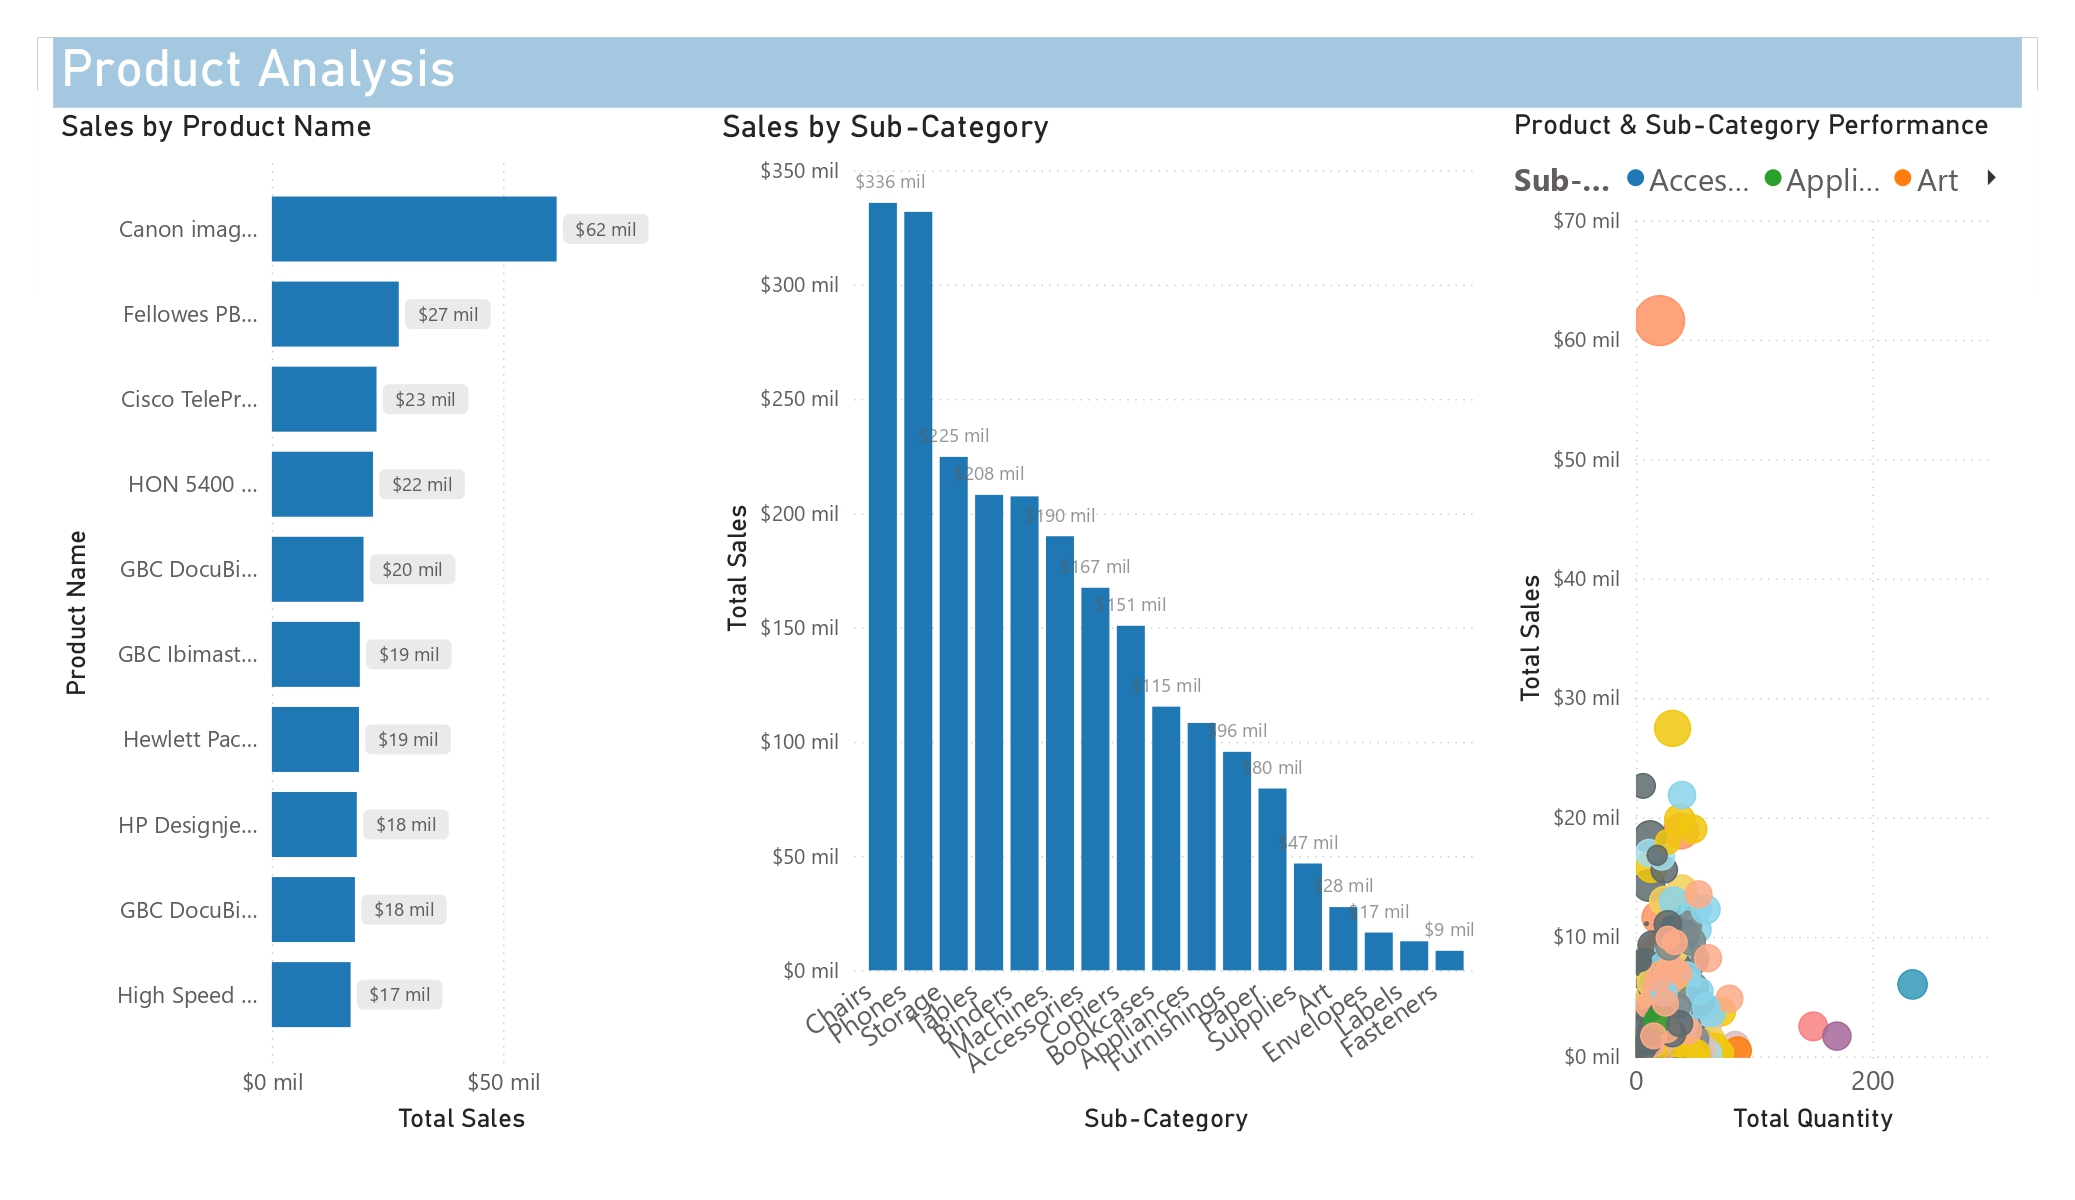

The dashboard page shown, as its layout file describes it:
{"tool":"powerbi","page":{"name":"PRODUCT ANALYSIS","canvas":[1280,720],"ordinal":3},"visuals":[{"type":"barChart","title":"Sales by Product Name","fields":{"Category":["samplesuperstore.Product Name"],"Y":["samplesuperstore.Total Sales"]},"box":[10,45,411.7,660],"z":0},{"type":"clusteredColumnChart","title":"Sales by Sub-Category","fields":{"Category":["samplesuperstore.Sub-Category"],"Y":["samplesuperstore.Total Sales"]},"box":[433.3,45,493.3,660],"z":1000},{"type":"scatterChart","title":"Product & Sub-Category Performance","fields":{"Category":["samplesuperstore.Product Name"],"Series":["samplesuperstore.Sub-Category"],"Size":["samplesuperstore.Total Profit"],"X":["samplesuperstore.Total Quantity"],"Y":["samplesuperstore.Total Sales"]},"box":[940,45,330,660],"z":2000},{"type":"textbox","title":"Product Analysis","box":[10,0,1260,45],"z":2001}]}

Visuals, with their boxes on the page's 1280x720 design canvas (x1, y1, x2, y2). These are canvas units, not pixel positions in the 2075x1200 screenshot, which may show the page scaled, cropped or inside an application window:
"Sales by Product Name" barChart: BBox(10, 45, 422, 705)
"Sales by Sub-Category" clusteredColumnChart: BBox(433, 45, 927, 705)
"Product & Sub-Category Performance" scatterChart: BBox(940, 45, 1270, 705)
"Product Analysis" textbox: BBox(10, 0, 1270, 45)
